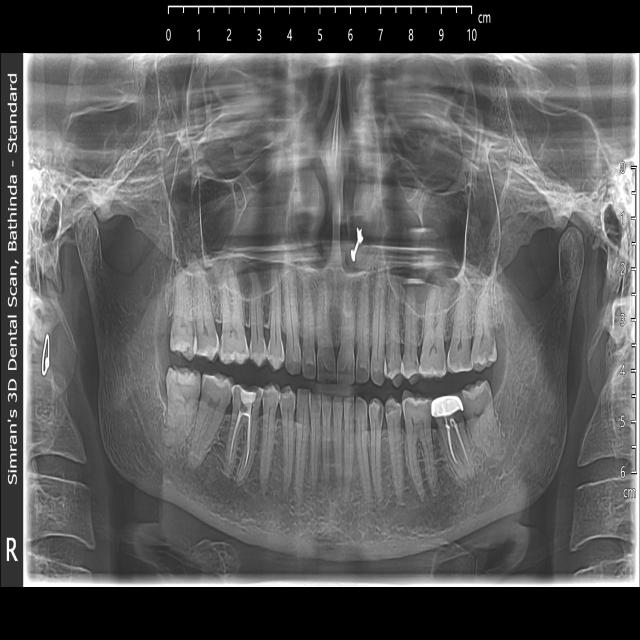Caries: (170, 315, 198, 359), (471, 329, 496, 370), (462, 382, 490, 416), (369, 398, 384, 428)
Crown: (431, 394, 463, 418)
Root Canal Treatment: (223, 388, 261, 485), (434, 408, 475, 489)
impacted tooth: (167, 368, 202, 446)
